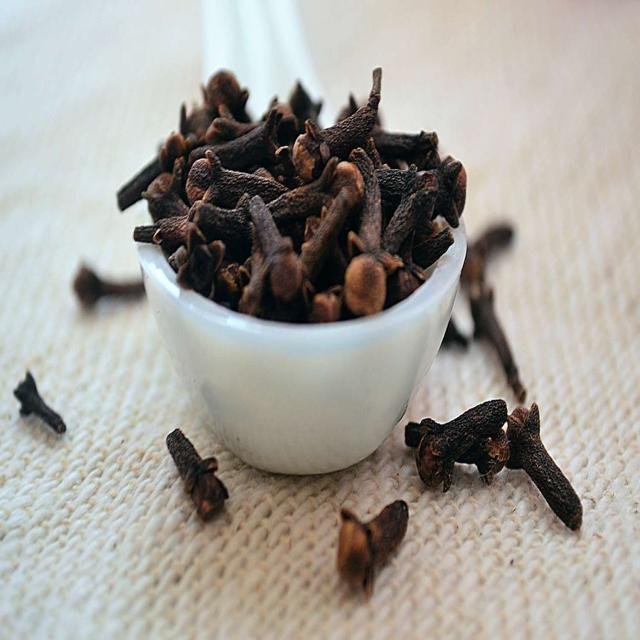clove: (130, 67, 466, 324)
